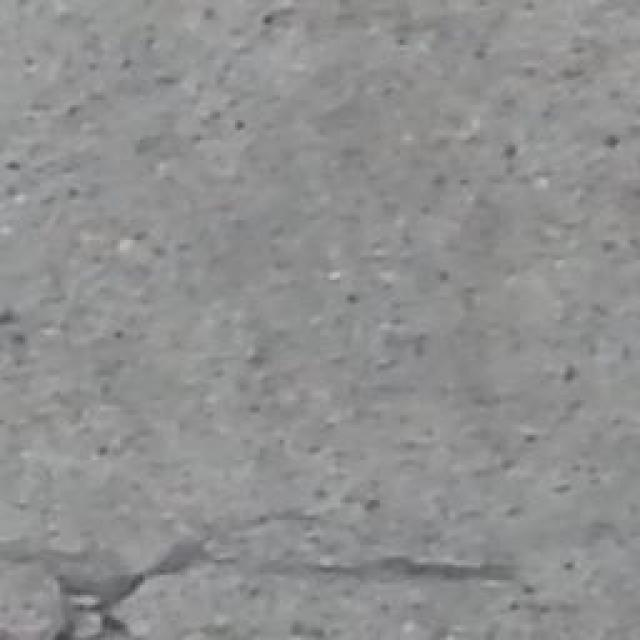concrete-crack: (6, 507, 525, 640)
